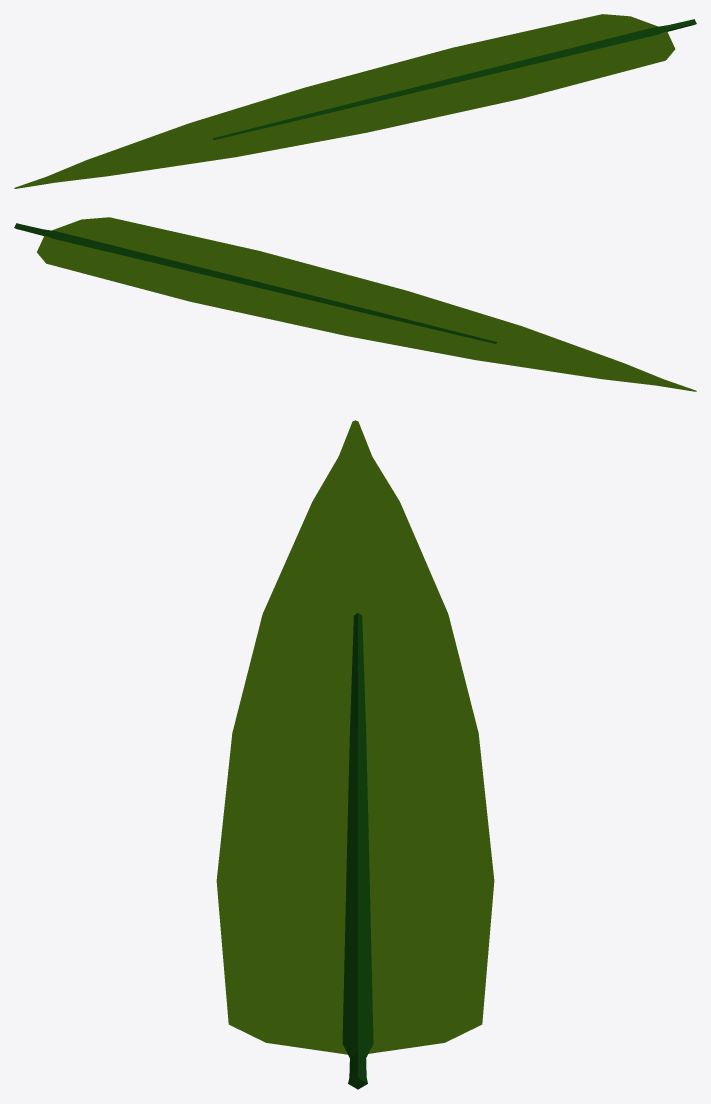
Rendered from BambooLeafFv1.fbx.
3 views of the same model, one above another, from view 1: azimuth 30°, elevation 25°; view 2: azimuth 150°, elevation 25°; view 3: azimuth 270°, elevation 25° (orthographic). The views are drawn at different scales.
Parts seen in each view (by area): view 1: Cube.031; view 2: Cube.031; view 3: Cube.031.
Part boxes in pixels (<box>): Cube.031: <box>14,14,696,188</box>; Cube.031: <box>14,217,696,391</box>; Cube.031: <box>216,420,494,1089</box>.
Bounding box in the file's own units: 15.53 × 0.2004 × 2.75.
